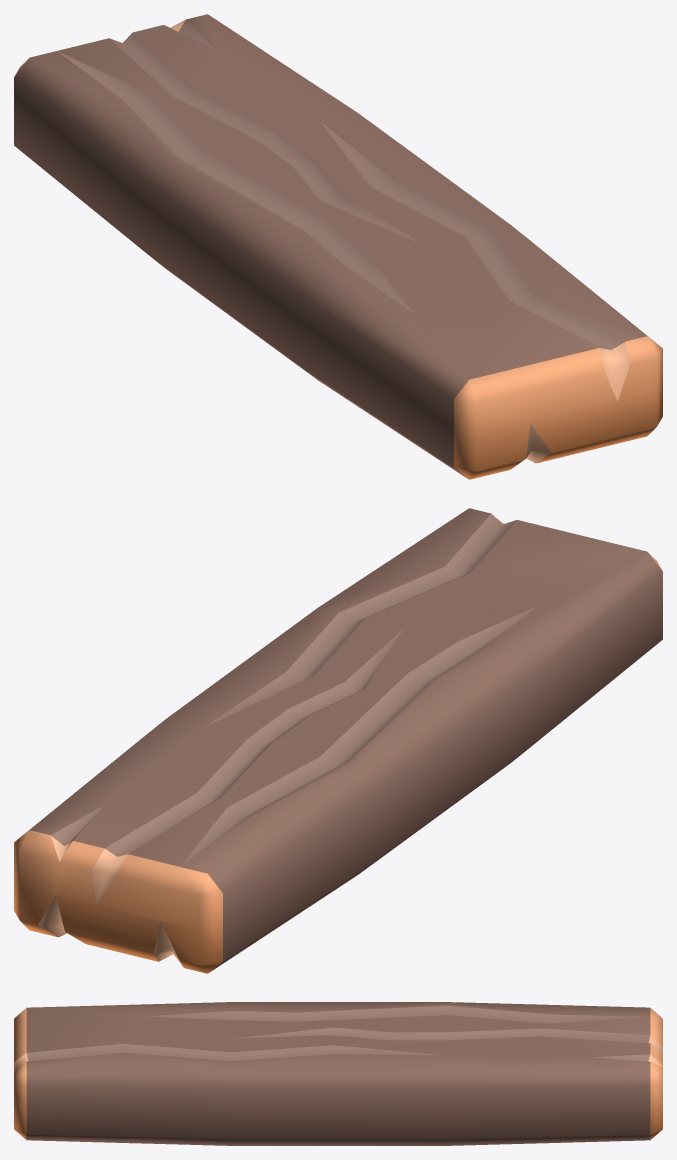
The model's file is wood_001.fbx.
3 views of the same model, one above another, from view 1: azimuth 30°, elevation 25°; view 2: azimuth 150°, elevation 25°; view 3: azimuth 270°, elevation 25° (orthographic). The views are drawn at different scales.
Parts seen in each view (by area): view 1: wood_001; view 2: wood_001; view 3: wood_001.
Part boxes in pixels (x1,y1,x2,y2): wood_001: (14,14,662,479); wood_001: (14,508,662,973); wood_001: (14,1002,662,1145).
Size of the model in its own units: 70.91 by 246 by 32.46.
